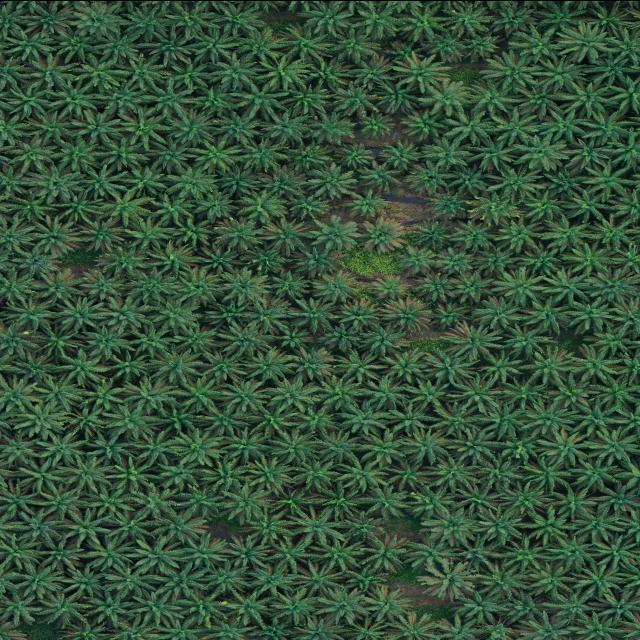Kelapa_Sawit: (414, 560, 482, 602), (167, 428, 227, 466), (218, 483, 272, 523), (194, 458, 253, 494), (493, 266, 548, 304), (239, 508, 297, 544), (30, 216, 82, 256), (522, 346, 574, 386), (290, 505, 342, 545), (60, 508, 114, 546), (421, 509, 478, 545), (22, 166, 82, 200), (442, 324, 502, 358), (486, 165, 544, 200), (164, 0, 217, 38), (475, 504, 525, 544), (158, 507, 212, 544), (583, 428, 640, 463), (355, 216, 407, 254), (134, 536, 186, 574), (266, 429, 322, 464), (584, 162, 635, 200), (391, 56, 451, 88), (362, 533, 410, 573), (475, 403, 528, 439), (210, 2, 266, 36), (188, 28, 244, 62), (2, 296, 58, 330), (103, 563, 159, 597), (38, 590, 94, 624), (54, 349, 108, 384), (380, 296, 432, 332), (426, 349, 478, 385), (86, 536, 138, 572), (314, 534, 366, 570), (336, 458, 391, 492), (335, 349, 388, 384), (404, 533, 454, 570), (558, 243, 614, 276), (594, 374, 640, 414), (220, 322, 274, 356), (104, 404, 158, 438), (393, 5, 445, 40), (449, 429, 501, 464), (81, 484, 133, 519), (543, 268, 593, 304), (570, 344, 620, 380), (454, 377, 504, 413), (268, 376, 318, 412), (16, 402, 66, 438), (405, 484, 455, 520), (480, 564, 530, 600), (466, 192, 522, 224), (522, 402, 578, 434), (572, 564, 628, 596), (109, 509, 160, 544), (146, 243, 200, 276), (483, 56, 542, 86), (558, 25, 610, 59), (306, 216, 358, 250), (384, 404, 436, 438), (150, 350, 202, 384), (167, 108, 216, 144), (548, 536, 597, 572), (501, 538, 556, 570), (242, 459, 292, 494), (489, 109, 542, 142), (175, 483, 222, 520), (125, 379, 181, 410), (71, 2, 122, 36), (189, 138, 240, 172), (524, 509, 575, 543), (318, 589, 369, 623), (280, 27, 334, 59), (492, 217, 540, 253), (32, 269, 86, 301), (221, 268, 269, 304), (586, 270, 640, 302), (241, 348, 295, 380), (216, 380, 270, 412), (535, 430, 589, 462), (528, 562, 576, 598), (165, 167, 217, 200), (85, 430, 134, 465), (104, 191, 154, 225), (588, 216, 638, 250), (219, 430, 269, 464), (150, 299, 203, 331), (17, 566, 70, 598), (56, 296, 104, 331), (503, 324, 551, 359), (380, 348, 428, 383), (521, 456, 569, 491), (474, 457, 522, 492), (540, 217, 589, 251), (142, 82, 194, 114), (444, 110, 496, 142), (59, 459, 111, 491), (309, 163, 359, 196), (122, 5, 170, 39), (26, 57, 74, 91), (238, 190, 289, 222), (174, 270, 222, 304), (566, 298, 614, 332), (429, 404, 477, 438), (313, 375, 361, 409), (456, 537, 504, 571), (225, 592, 273, 626), (178, 590, 229, 622), (130, 591, 178, 625), (157, 562, 205, 596), (352, 4, 406, 34), (298, 2, 352, 32), (418, 80, 472, 110), (292, 564, 346, 594), (516, 137, 568, 168), (147, 138, 197, 170), (118, 112, 168, 144), (126, 269, 176, 301), (520, 298, 570, 330), (340, 404, 390, 436), (568, 458, 618, 490), (12, 510, 62, 542), (270, 592, 320, 624), (81, 325, 128, 359), (214, 110, 258, 146), (472, 297, 520, 330), (38, 431, 86, 464), (132, 484, 176, 520), (36, 485, 84, 518), (577, 507, 621, 543), (458, 591, 509, 622), (361, 587, 412, 618), (562, 189, 611, 221), (76, 218, 125, 250), (199, 563, 248, 595), (234, 31, 288, 60), (468, 80, 514, 114), (540, 107, 586, 141), (504, 377, 550, 411), (154, 458, 200, 492), (184, 536, 230, 570), (227, 535, 273, 569), (356, 433, 408, 463), (546, 590, 598, 620), (547, 378, 594, 411), (142, 30, 192, 61), (308, 111, 358, 142), (98, 138, 146, 170), (428, 456, 476, 488), (292, 457, 340, 489), (132, 430, 180, 462), (440, 4, 491, 34), (71, 112, 122, 142), (215, 218, 266, 248), (7, 85, 56, 116), (80, 378, 126, 411), (290, 246, 344, 274), (582, 328, 636, 356), (340, 188, 392, 217), (597, 535, 640, 570), (360, 378, 407, 410), (361, 485, 408, 517), (536, 58, 586, 88), (6, 192, 56, 222), (97, 244, 147, 274), (86, 593, 136, 623), (56, 138, 100, 172), (0, 432, 44, 466), (595, 482, 639, 516), (272, 538, 316, 572), (78, 270, 126, 301), (35, 378, 83, 409), (343, 509, 388, 542), (74, 58, 120, 90), (247, 297, 293, 329), (361, 322, 407, 354), (128, 324, 174, 356), (480, 352, 526, 384), (454, 482, 500, 514), (52, 30, 101, 60), (584, 55, 633, 85), (9, 139, 58, 169), (41, 536, 84, 570), (331, 85, 378, 116), (534, 4, 586, 32), (108, 463, 160, 491), (26, 2, 70, 35), (124, 165, 168, 198), (124, 219, 174, 248), (402, 431, 452, 460), (515, 615, 573, 640), (514, 84, 562, 114), (582, 112, 630, 142), (564, 138, 612, 168), (56, 193, 104, 223), (449, 219, 494, 251), (100, 299, 148, 329), (288, 350, 336, 380), (16, 460, 64, 490), (270, 486, 318, 516), (408, 378, 450, 412), (550, 487, 596, 518), (491, 4, 538, 34), (305, 56, 349, 88), (574, 404, 618, 436), (561, 84, 611, 112), (260, 219, 308, 248), (14, 247, 62, 276), (248, 565, 296, 594), (422, 29, 464, 62), (512, 30, 558, 60), (424, 140, 470, 170), (402, 110, 448, 140), (262, 110, 308, 140), (241, 138, 287, 168), (194, 192, 240, 222), (542, 166, 588, 196), (34, 327, 80, 357), (176, 382, 222, 412), (312, 431, 358, 461), (502, 483, 548, 513), (386, 457, 429, 489), (247, 407, 296, 435), (0, 377, 39, 412), (0, 539, 40, 573), (349, 56, 394, 86), (471, 140, 516, 170), (286, 82, 328, 114), (153, 193, 195, 225), (287, 298, 335, 326), (198, 352, 246, 380), (58, 406, 106, 434), (502, 593, 550, 621), (50, 85, 96, 114), (204, 408, 250, 437), (0, 481, 34, 520), (288, 140, 332, 170), (30, 113, 74, 143), (522, 192, 566, 222), (406, 163, 448, 194), (258, 59, 308, 85), (158, 406, 206, 433), (82, 168, 125, 198), (210, 59, 256, 87), (312, 272, 358, 300), (218, 164, 258, 196), (173, 326, 217, 355), (587, 4, 629, 34), (121, 58, 166, 86), (198, 246, 240, 276), (518, 245, 560, 275), (110, 350, 152, 380), (598, 591, 640, 621), (570, 615, 620, 640), (608, 76, 640, 115), (388, 614, 436, 640), (8, 31, 54, 58), (97, 84, 141, 112), (425, 190, 469, 218), (62, 569, 106, 597), (0, 216, 36, 250), (0, 322, 36, 356), (395, 245, 437, 274), (154, 618, 209, 640), (268, 271, 311, 299), (260, 169, 306, 195), (242, 247, 288, 273), (169, 219, 215, 245), (333, 31, 377, 58), (196, 85, 238, 113), (296, 408, 338, 436), (15, 352, 57, 380), (286, 194, 331, 220), (412, 274, 457, 300), (293, 619, 348, 640), (202, 302, 250, 326), (165, 61, 209, 87), (60, 618, 112, 640), (412, 219, 450, 249), (456, 272, 494, 302), (502, 434, 540, 464), (240, 85, 282, 112), (377, 82, 417, 110), (474, 246, 514, 274), (0, 593, 35, 625), (434, 300, 471, 330), (346, 566, 392, 590), (336, 300, 378, 326), (434, 617, 481, 640), (100, 30, 136, 60), (324, 484, 360, 514), (450, 166, 490, 192), (614, 298, 640, 338), (204, 620, 256, 640), (436, 246, 473, 274), (608, 188, 640, 220), (0, 269, 34, 299), (381, 142, 423, 166), (0, 110, 28, 146), (323, 324, 359, 352), (613, 457, 640, 494), (462, 32, 500, 58), (360, 164, 400, 188), (344, 620, 392, 640), (109, 621, 159, 640), (0, 55, 27, 90), (372, 272, 408, 298), (276, 324, 312, 350), (358, 112, 396, 136), (616, 346, 640, 384), (615, 400, 640, 436), (611, 134, 640, 165), (251, 620, 294, 640), (0, 4, 26, 37), (611, 30, 640, 59), (338, 144, 373, 168), (616, 506, 640, 541), (478, 619, 517, 640), (385, 41, 425, 60), (0, 166, 26, 195), (614, 244, 640, 273)
